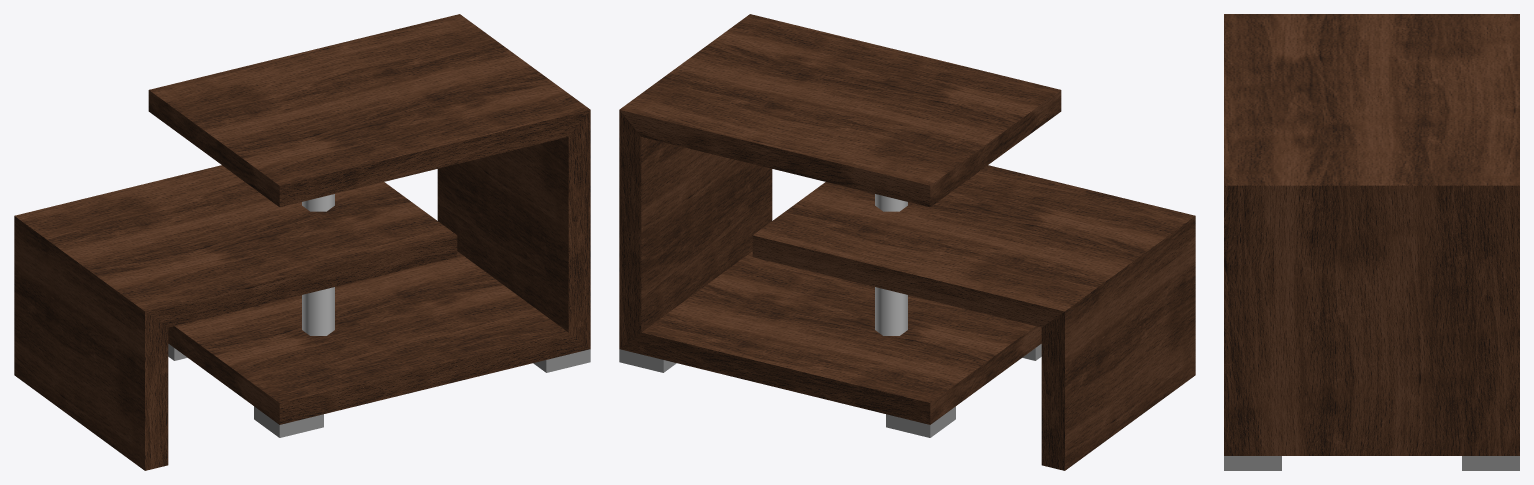
Rendered from coffee_table_016.fbx.
3 views of the same model, side by side, from view 1: azimuth 30°, elevation 25°; view 2: azimuth 150°, elevation 25°; view 3: azimuth 270°, elevation 25° (orthographic). The views are drawn at different scales.
Visible parts, largest first — view 1: coffee_table_016; view 2: coffee_table_016; view 3: coffee_table_016.
Boxes of the visible parts, left/top/right/bottom form: coffee_table_016: left=14, top=14, right=590, bottom=470; coffee_table_016: left=619, top=14, right=1195, bottom=470; coffee_table_016: left=1224, top=14, right=1519, bottom=470.
Bounding box in the file's own units: 119 × 60.27 × 64.14.
